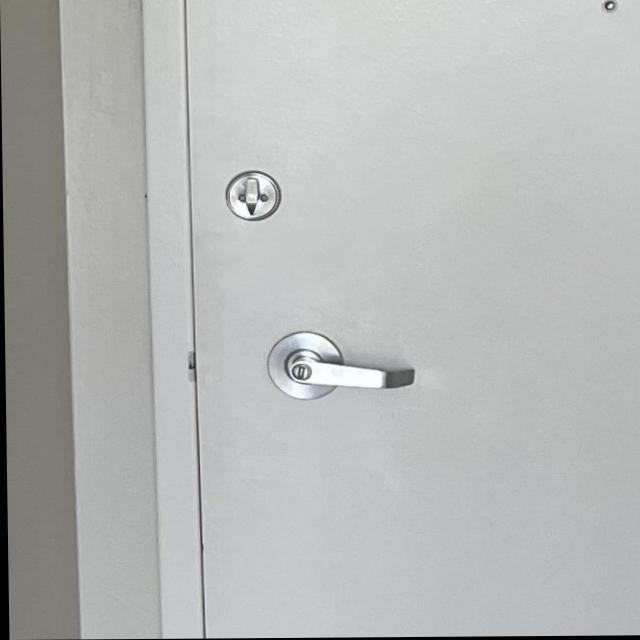door_handle: (268, 342, 430, 410)
